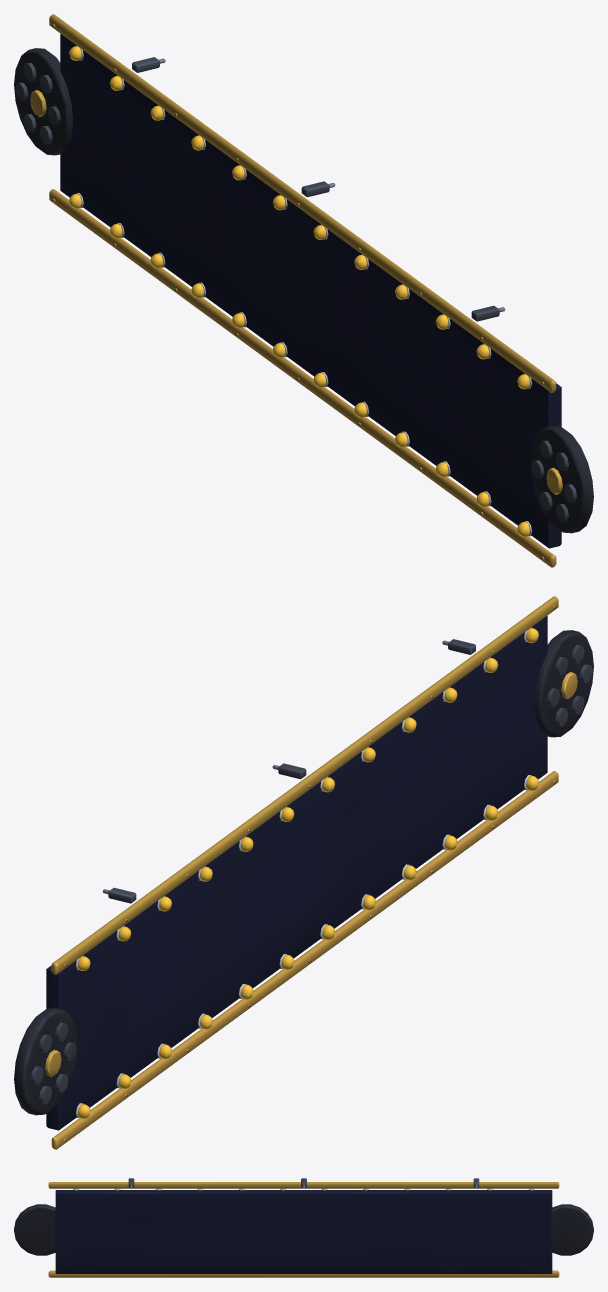
The model's file is SM_Lobby_Stage4Header.fbx.
3 views of the same model, one above another, from view 1: azimuth 30°, elevation 25°; view 2: azimuth 150°, elevation 25°; view 3: azimuth 270°, elevation 25° (orthographic). The views are drawn at different scales.
Parts seen in each view (by area): view 1: SM_Lobby_Stage4Header; view 2: SM_Lobby_Stage4Header; view 3: SM_Lobby_Stage4Header.
Part boxes in pixels (x1,y1,x2,y2): SM_Lobby_Stage4Header: [14, 14, 593, 567]; SM_Lobby_Stage4Header: [14, 596, 593, 1149]; SM_Lobby_Stage4Header: [14, 1178, 593, 1277].
Size of the model in its own units: 34.85 by 159 by 840.
